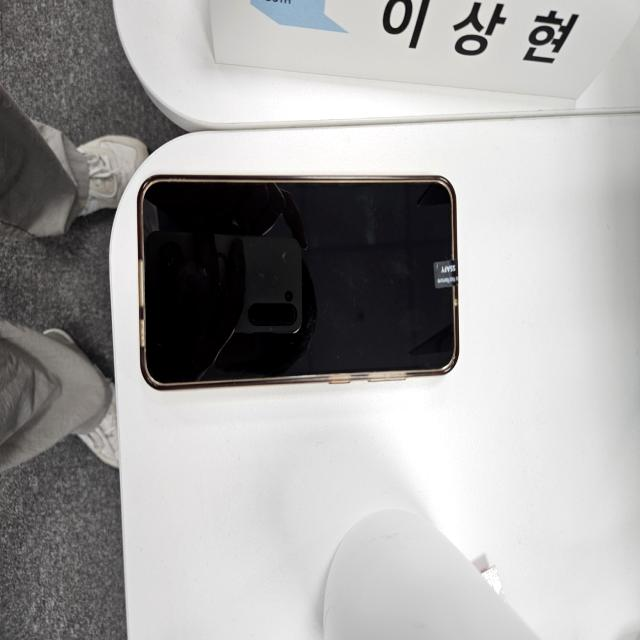phone: (136, 172, 462, 388)
sticker: (434, 261, 458, 288)
